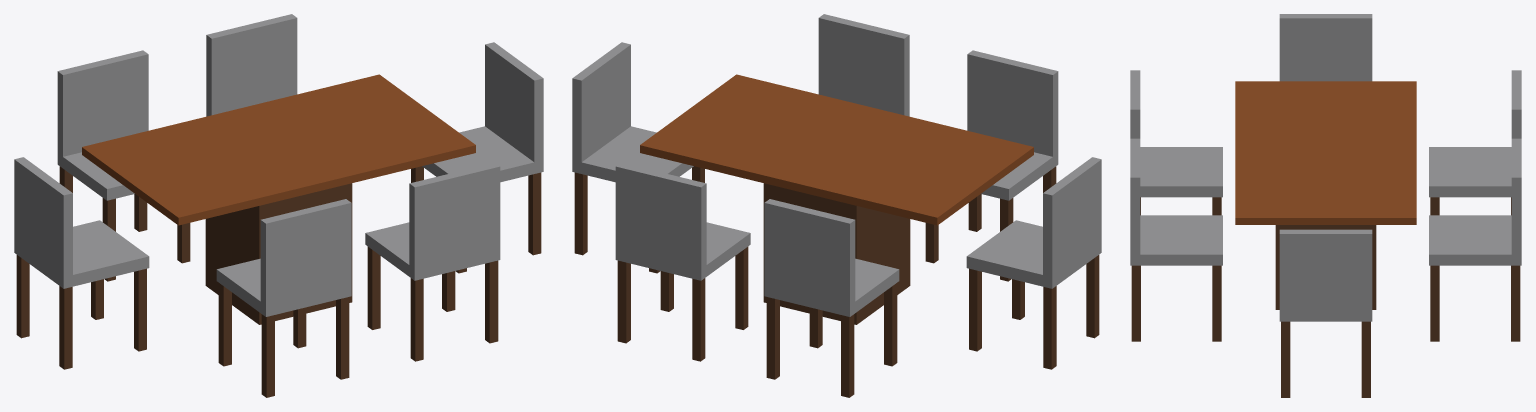
The model's file is comedor-toledo.glb.
The picture shows the model from 3 angles, left to right: view 1: azimuth 30°, elevation 25°; view 2: azimuth 150°, elevation 25°; view 3: azimuth 270°, elevation 25°; orthographic projection. The views are drawn at different scales.
Parts seen in each view (by area): view 1: comedor-toledo; view 2: comedor-toledo; view 3: comedor-toledo.
Part boxes in pixels (x1,y1,x2,y2): comedor-toledo: (14,14,543,397); comedor-toledo: (572,14,1101,397); comedor-toledo: (1130,14,1521,397).
Bounding box in the file's own units: 2.58 × 0.9 × 1.94.
